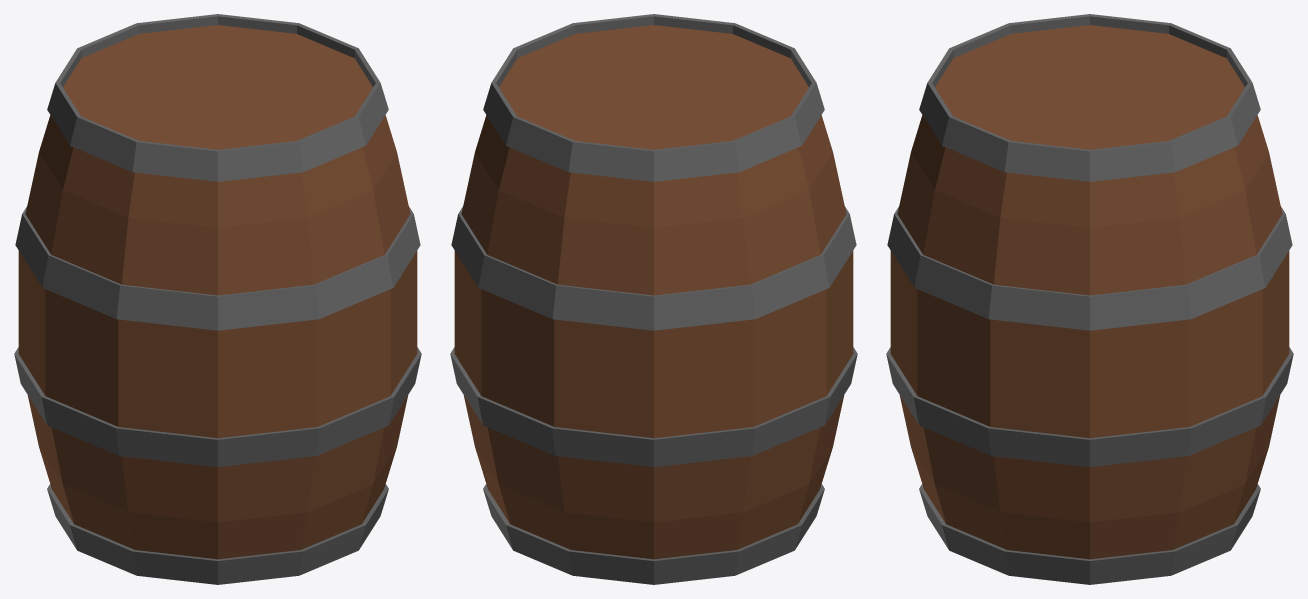
The model's file is Barrel.fbx.
3 renders of one model, left to right at view 1: azimuth 30°, elevation 25°; view 2: azimuth 150°, elevation 25°; view 3: azimuth 270°, elevation 25°, orthographic.
Visible parts, largest first — view 1: Cylinder.002; view 2: Cylinder.002; view 3: Cylinder.002.
Part boxes in pixels (x1=…): Cylinder.002: x1=14, y1=14, x2=421, y2=584; Cylinder.002: x1=450, y1=14, x2=857, y2=584; Cylinder.002: x1=886, y1=14, x2=1293, y2=584.
Size of the model in its own units: 304 by 357 by 304.
